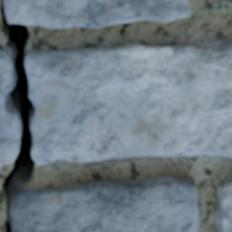brick: (11, 178, 198, 231), (3, 0, 190, 28), (216, 176, 231, 231)
broken_brick: (26, 39, 231, 165), (0, 49, 16, 168)
crack: (0, 1, 37, 231)
